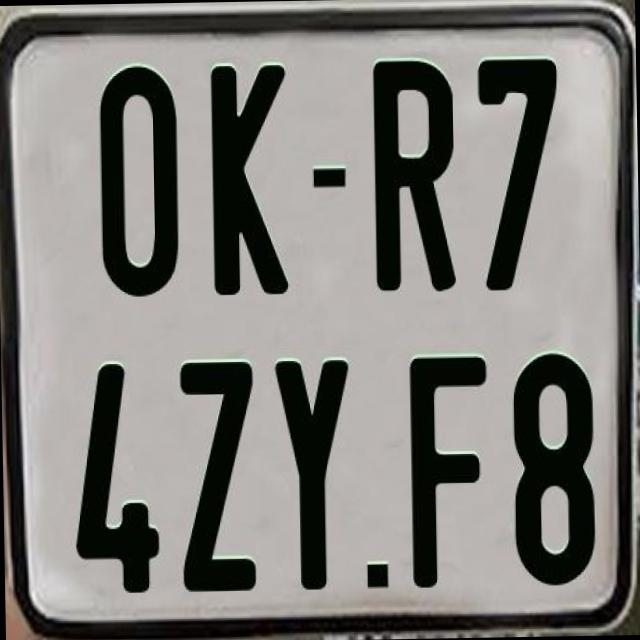0: (95, 60, 178, 301)
4: (70, 362, 158, 600)
7: (472, 58, 560, 293)
8: (508, 352, 600, 594)
F: (406, 354, 490, 592)
K: (210, 64, 290, 296)
R: (371, 60, 461, 300)
Y: (271, 354, 351, 592)
Z: (179, 360, 257, 594)
